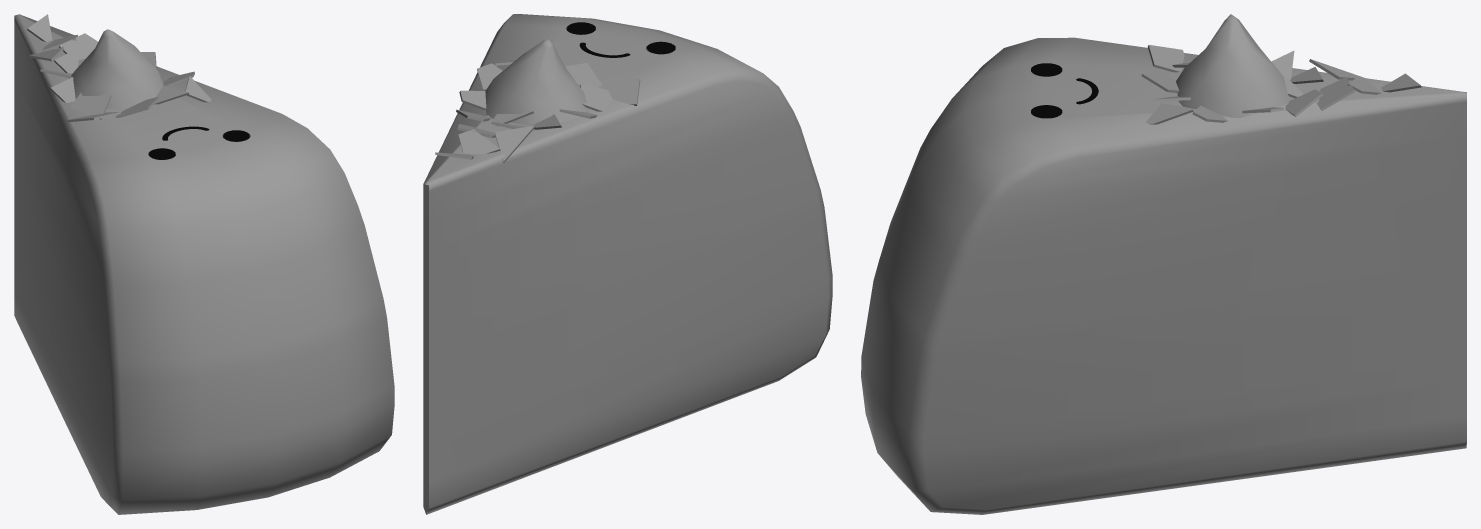
File: cake_piece_purple_smile.fbx
The picture shows the model from 3 angles, left to right: view 1: azimuth 30°, elevation 25°; view 2: azimuth 150°, elevation 25°; view 3: azimuth 270°, elevation 25°; orthographic projection. The views are drawn at different scales.
Visible parts, largest first — view 1: cake_piece_purple_smile; view 2: cake_piece_purple_smile; view 3: cake_piece_purple_smile.
Boxes of the visible parts, left/top/right/bottom form: cake_piece_purple_smile: left=14, top=14, right=394, bottom=514; cake_piece_purple_smile: left=423, top=14, right=832, bottom=514; cake_piece_purple_smile: left=861, top=14, right=1466, bottom=514.
Size of the model in its own units: 54.37 by 88.96 by 69.28.
2 materials, 1 textured.
